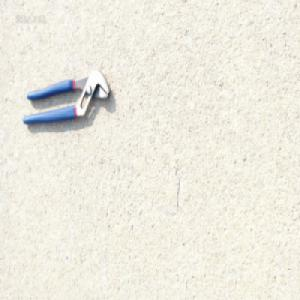Pliers: (19, 68, 110, 126)
